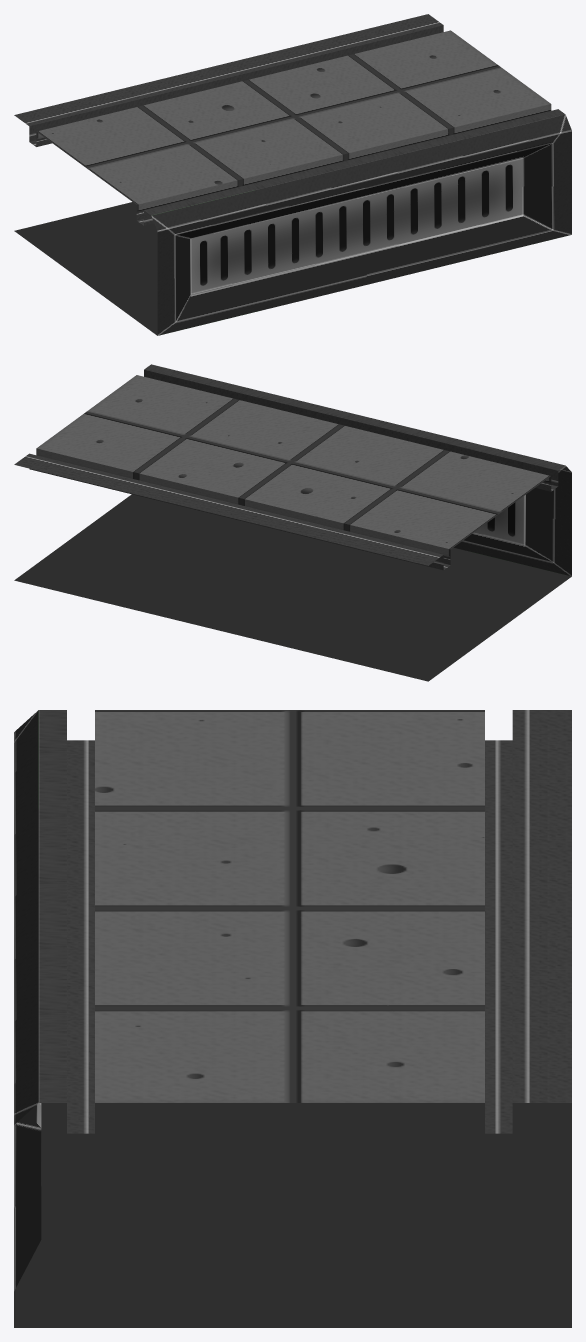
File: Floor tile (textured).FBX
3 renders of one model, top to bottom at view 1: azimuth 30°, elevation 25°; view 2: azimuth 150°, elevation 25°; view 3: azimuth 270°, elevation 25°, orthographic. The views are drawn at different scales.
Parts seen in each view (by area): view 1: Box001; view 2: Box001; view 3: Box001.
Part boxes in pixels (left/top/right/bottom): Box001: left=14, top=14, right=571, bottom=335; Box001: left=14, top=364, right=571, bottom=681; Box001: left=14, top=710, right=571, bottom=1327.
Bounding box in the file's own units: 197 × 52.53 × 118.
